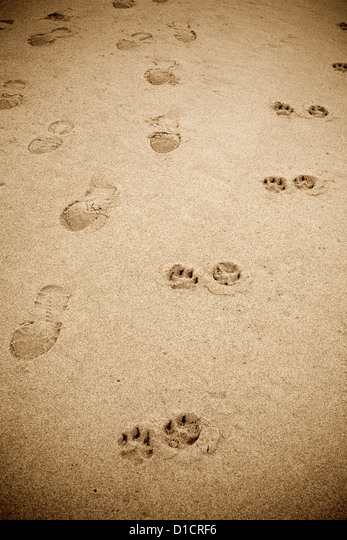chien: (116, 424, 157, 469), (161, 416, 207, 452), (166, 265, 201, 296), (209, 261, 248, 286), (261, 172, 289, 197), (290, 174, 318, 191)
